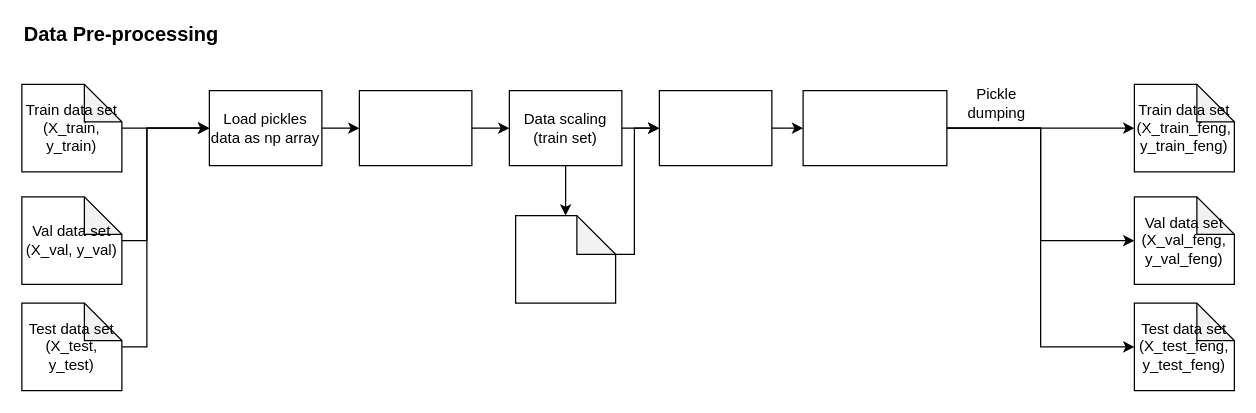
The diagram is 1256 pixels wide and 413 high, and some of its shapes have lost their labels. Here are the shapes that lost their labels. From the top down, the centre of each, then its label:
At [415,127]: "Data cleaning (outlier removal)".
At [715,127]: "Data scaling (val & test set)".
At [874,127]: "Data label encoding (y_train, y_val, y_test)".
At [565,258]: "Standard Scaler Object (pickle)".
